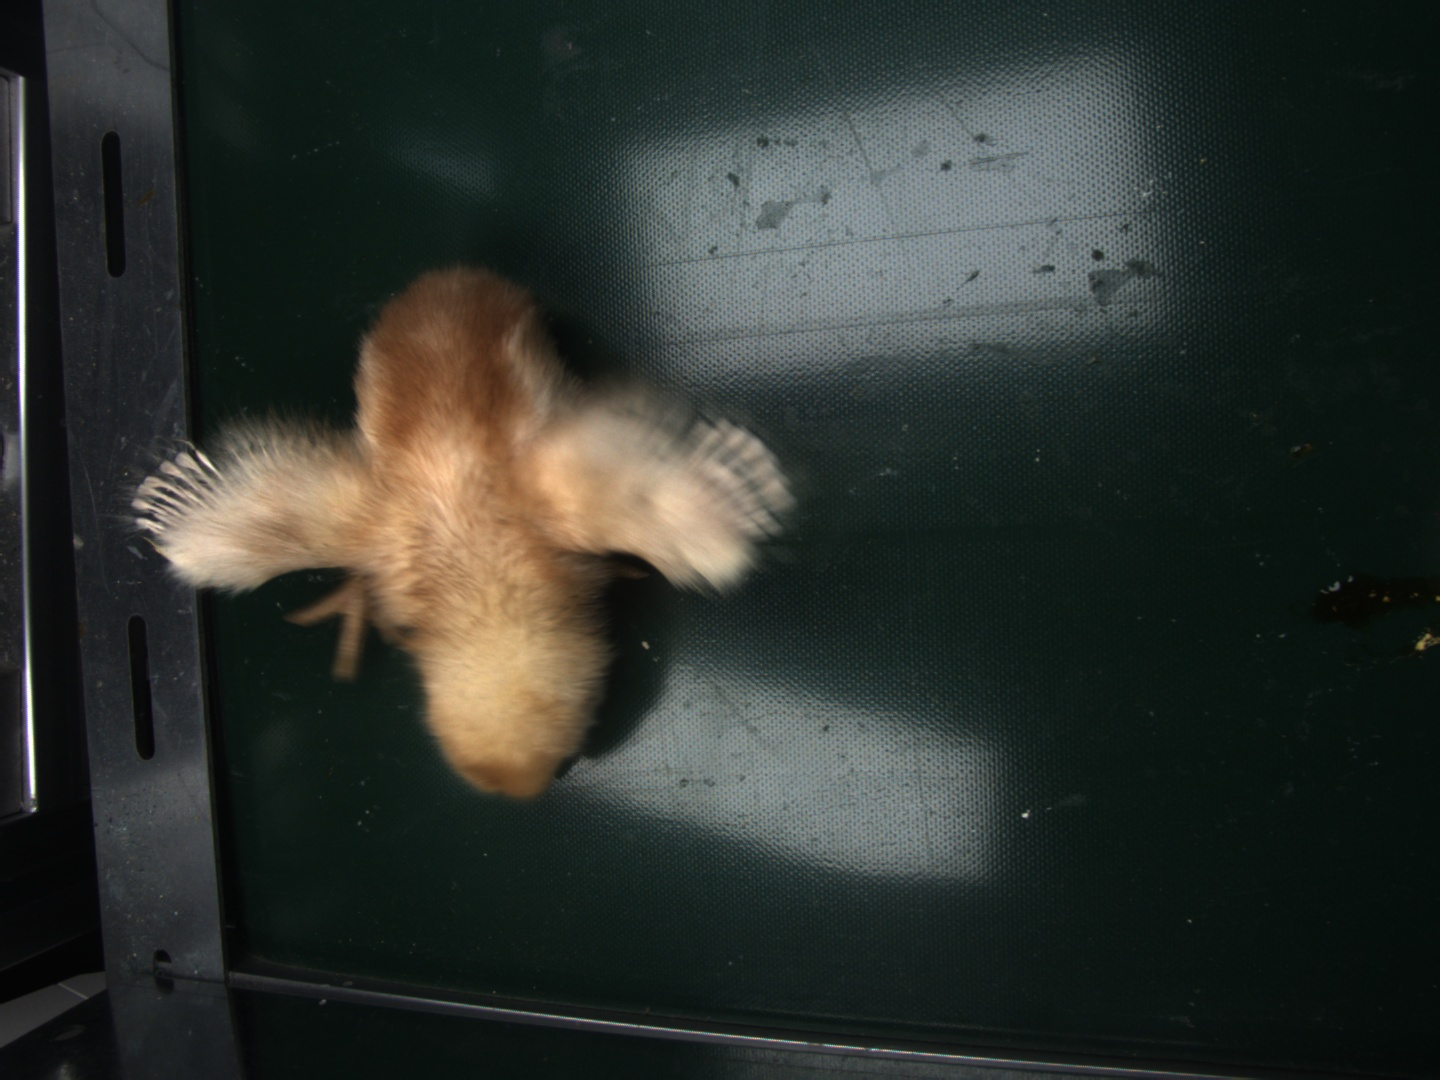female: (129, 449, 229, 540)
